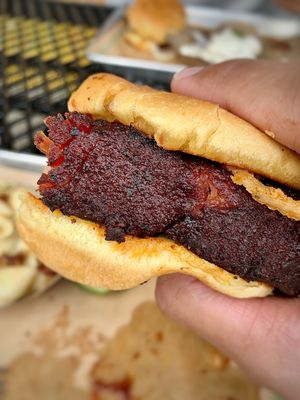soup: (12, 72, 300, 303)
